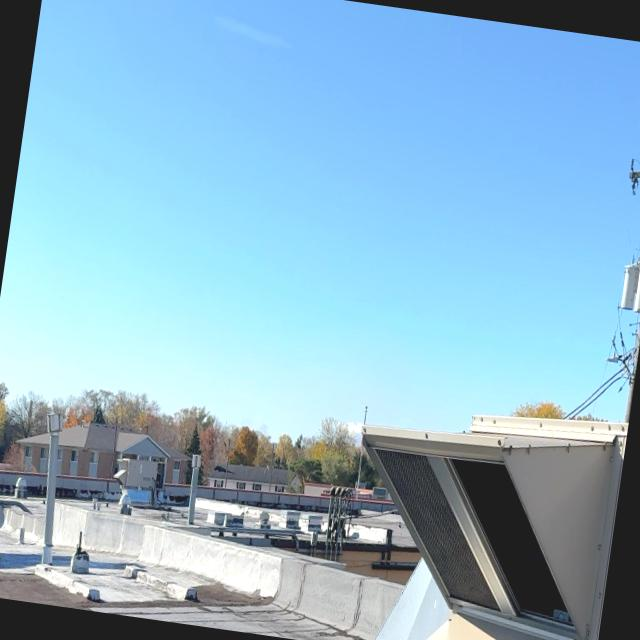GRAVITY-VENT: (26, 406, 74, 566), (184, 448, 206, 526), (117, 491, 136, 519), (12, 472, 30, 501)
RTU: (331, 369, 631, 640), (109, 450, 173, 513)
